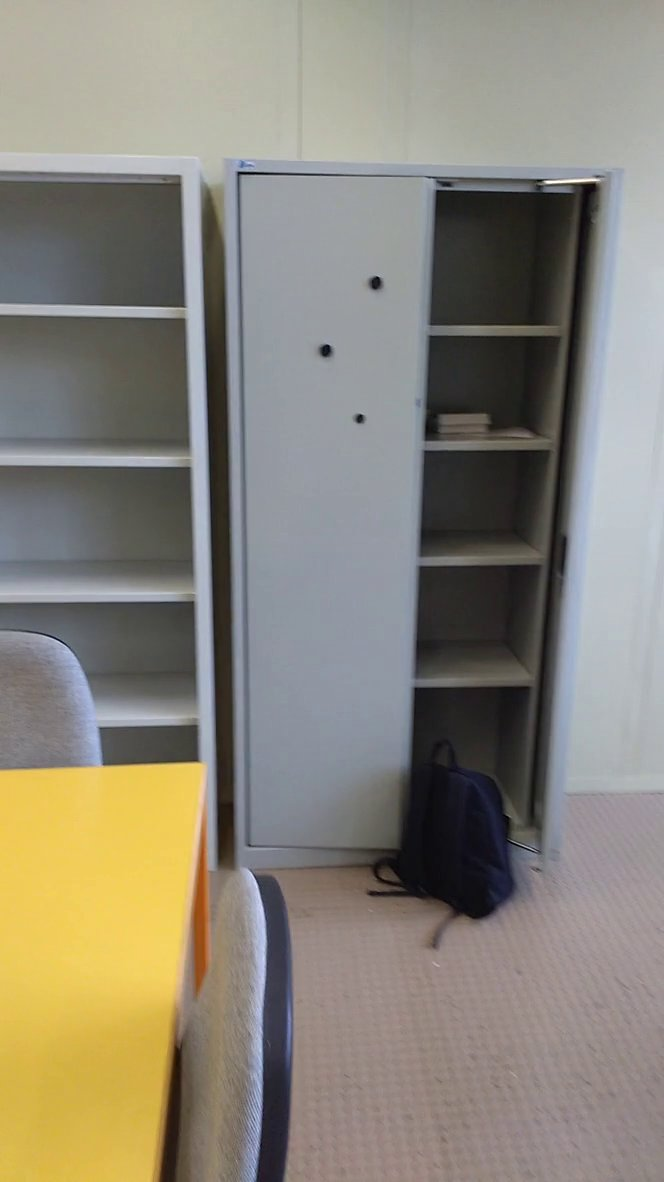bag: (369, 731, 526, 925)
chair: (151, 850, 342, 1182)
